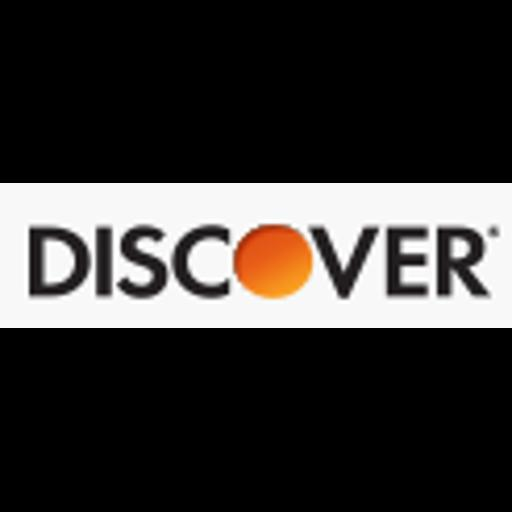Discover: (0, 183, 512, 328)
